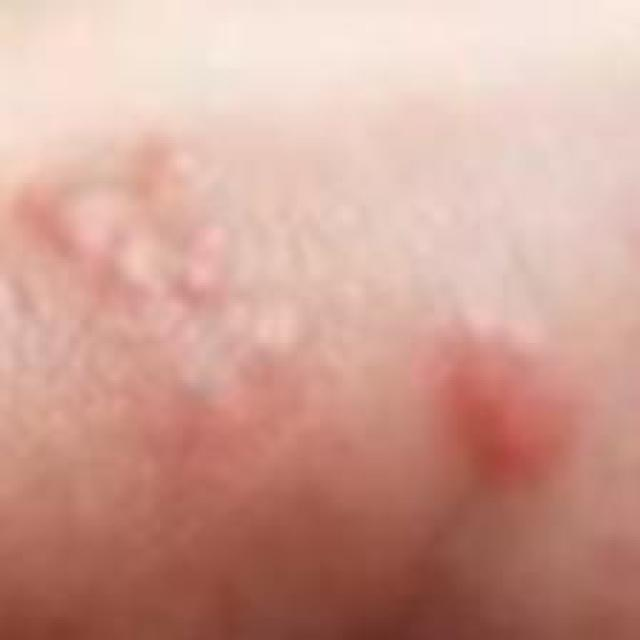monkeypox: (30, 146, 631, 624)
